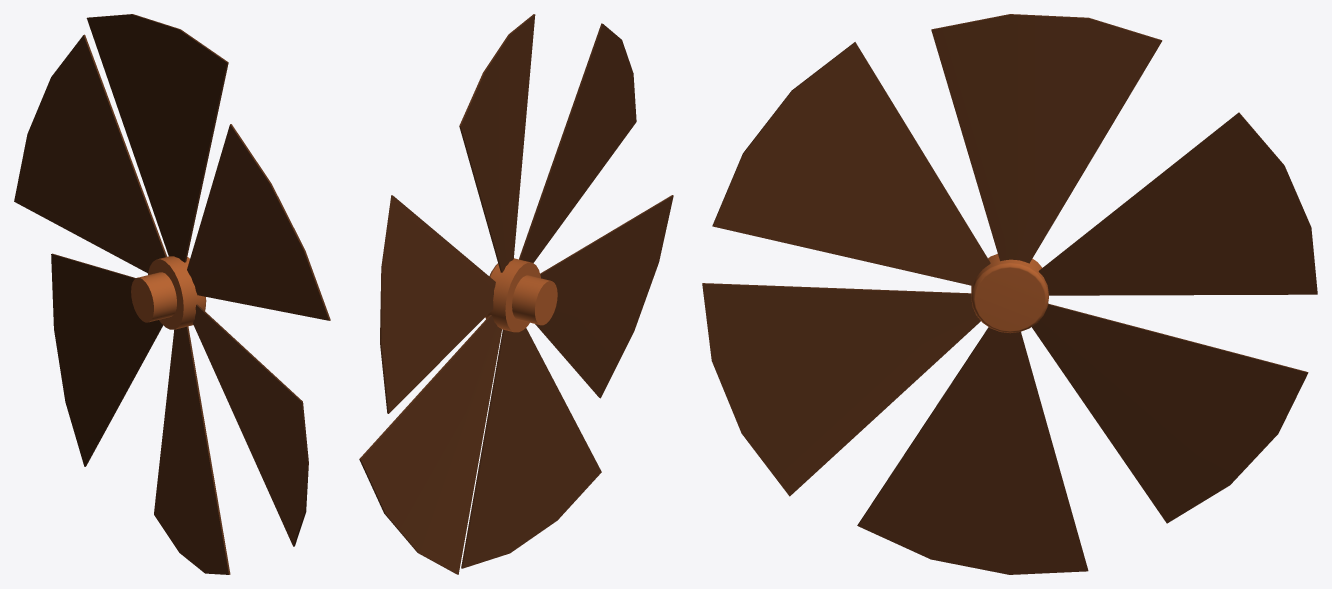
File: SP_House01_VentFan01.fbx
3 renders of one model, left to right at view 1: azimuth 30°, elevation 25°; view 2: azimuth 150°, elevation 25°; view 3: azimuth 270°, elevation 25°, orthographic. The views are drawn at different scales.
Parts seen in each view (by area): view 1: SP_House01_VentFan01; view 2: SP_House01_VentFan01; view 3: SP_House01_VentFan01.
Part boxes in pixels (<box>): SP_House01_VentFan01: <box>14,14,330,574</box>; SP_House01_VentFan01: <box>359,14,673,574</box>; SP_House01_VentFan01: <box>702,14,1317,574</box>.
Bounding box in the file's own units: 0.0573 × 0.58 × 0.5777.
